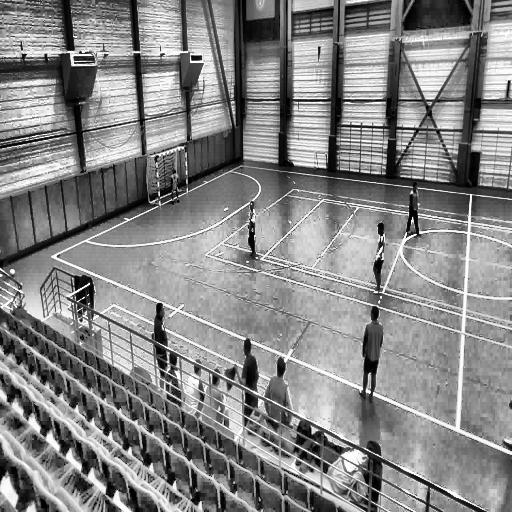player: (360, 304, 382, 404), (150, 302, 169, 384), (372, 222, 386, 296), (405, 180, 422, 239), (246, 200, 258, 258), (170, 168, 181, 207)
